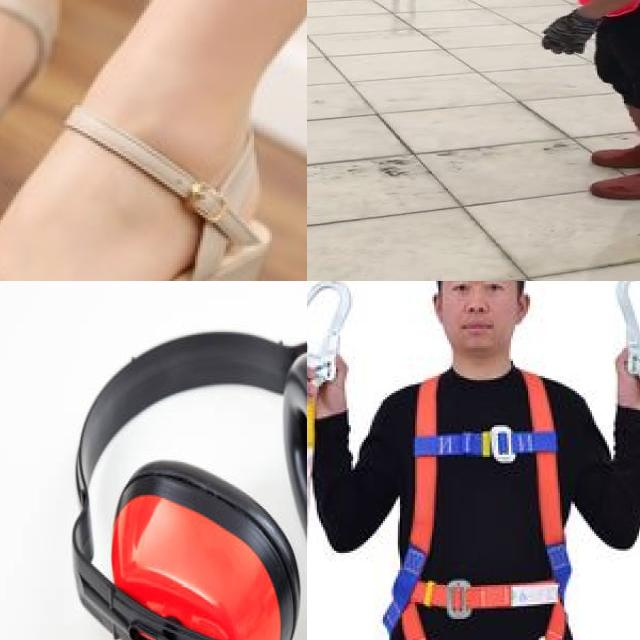Ear-protection: (52, 306, 307, 640)
Harness: (391, 360, 568, 640)
Sandals: (0, 85, 277, 281)
boots: (586, 101, 640, 166), (594, 130, 640, 203)
person: (526, 0, 640, 215)
